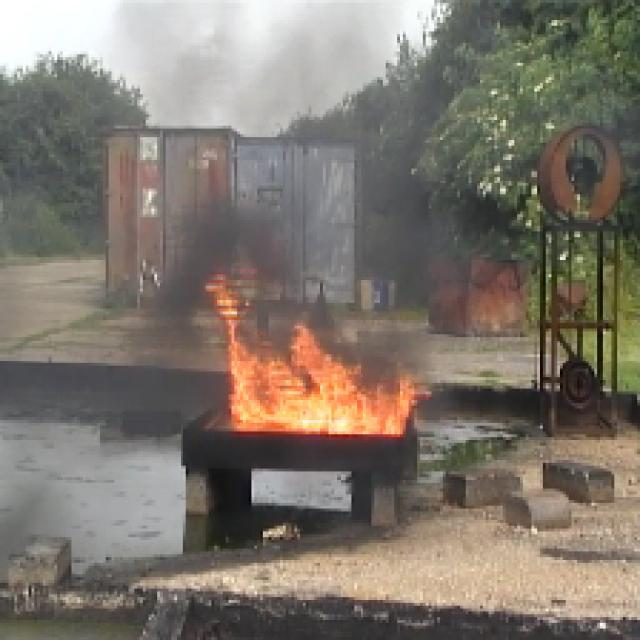Fire: (225, 332, 412, 454)
